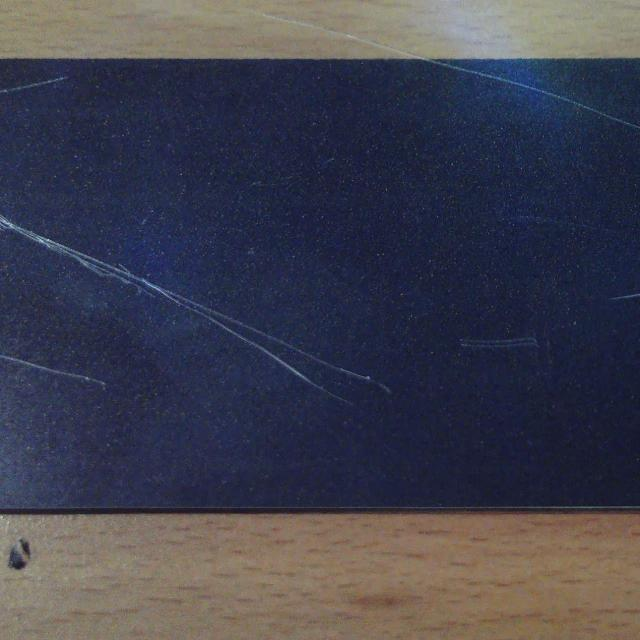defect: (0, 214, 390, 405), (418, 60, 640, 134), (0, 353, 108, 390), (1, 70, 71, 100), (461, 331, 541, 354), (608, 283, 640, 310)
